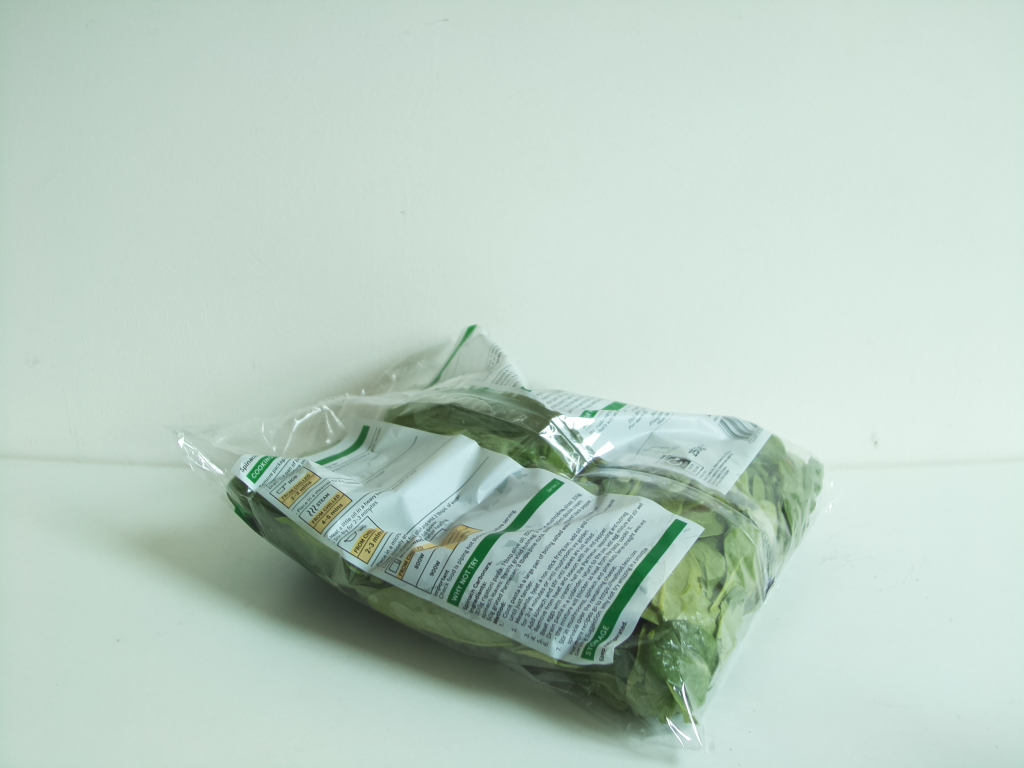salad: (222, 354, 826, 735)
